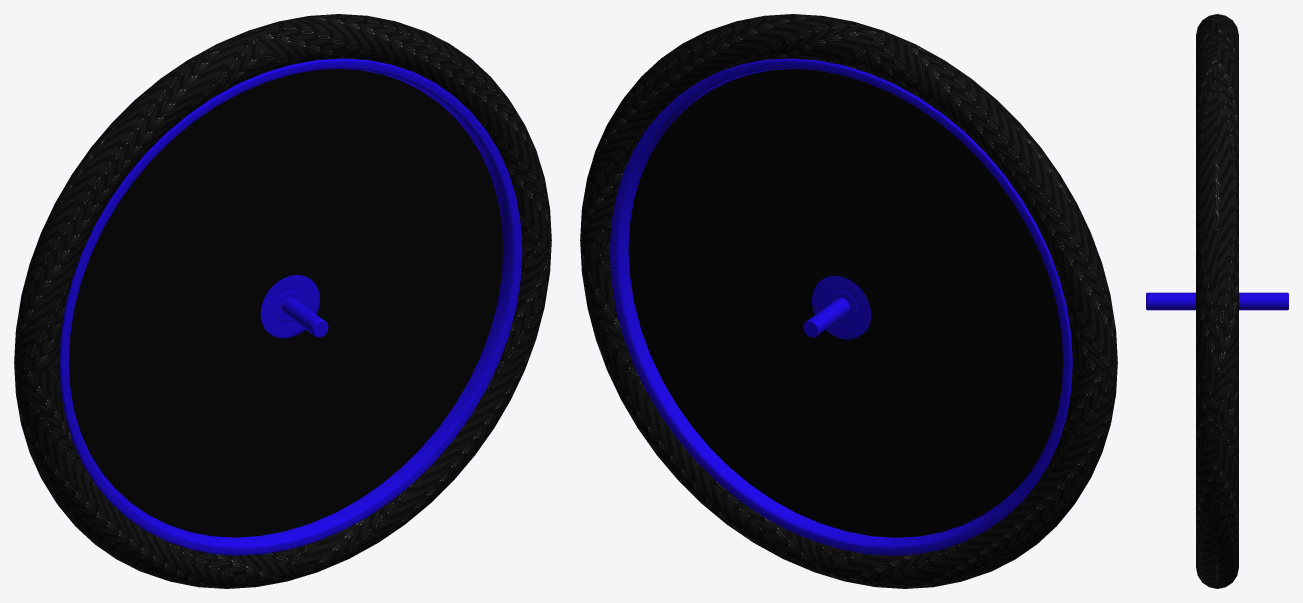
The model's file is BikeWheel.fbx.
3 renders of one model, left to right at view 1: azimuth 30°, elevation 25°; view 2: azimuth 150°, elevation 25°; view 3: azimuth 270°, elevation 25°, orthographic. The views are drawn at different scales.
Visible parts, largest first — view 1: 11717_bicycle_v2_L1.001; view 2: 11717_bicycle_v2_L1.001; view 3: 11717_bicycle_v2_L1.001.
Part boxes in pixels (x1,y1,x2,y2): 11717_bicycle_v2_L1.001: (14,14,551,588); 11717_bicycle_v2_L1.001: (580,14,1117,588); 11717_bicycle_v2_L1.001: (1146,14,1288,588).
Bounding box in the file's own units: 2527 × 2527 × 627.
3 materials, 2 textured.
